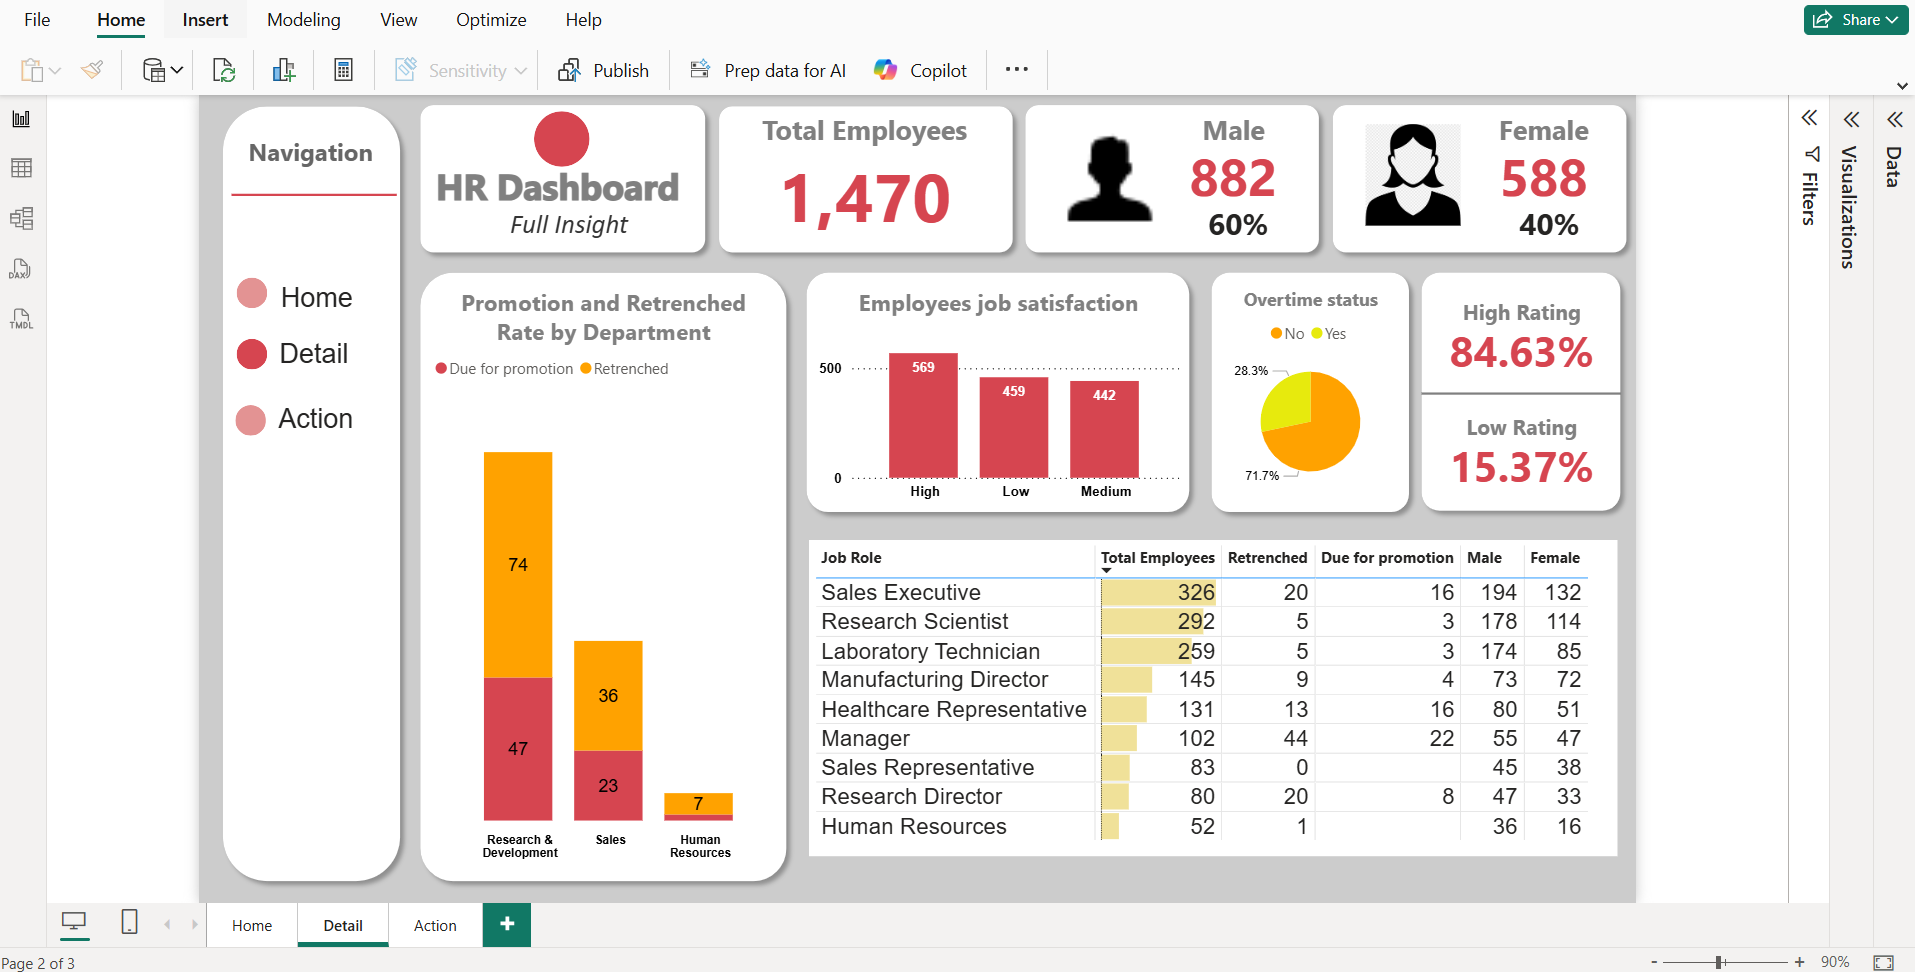

Layout of this report page (visuals, bound fields, positions):
{"tool":"powerbi","page":{"name":"Detail","canvas":[1280,720],"ordinal":1},"visuals":[{"type":"shape","box":[12.2,1.1,175.9,708],"z":0},{"type":"shape","box":[892.5,148.8,193.8,231.2],"z":1000},{"type":"shape","box":[532.5,148.8,358.8,231.2],"z":2000},{"type":"shape","box":[453.8,1.1,279.4,148.1],"z":3000},{"type":"shape","box":[188.1,0,271.6,149.2],"z":4000},{"type":"shape","box":[727.3,0,279.4,149.2],"z":5000},{"type":"shape","box":[1000.6,0,279.4,149.2],"z":6000},{"type":"shape","box":[188.1,149.2,344,560],"z":7000},{"type":"textbox","box":[205.6,54.6,236,58.4],"z":8000},{"type":"textbox","box":[261.4,83.7,144.6,57.1],"z":9000},{"type":"shape","box":[298.2,14,49.5,49.5],"z":10000},{"type":"card","title":"Total Employees","fields":{"Values":["All Measures.Total Employees"]},"box":[474.5,14,237.3,112.9],"z":11000},{"type":"card","title":"Male","fields":{"Values":["All Measures.Male"]},"box":[856.5,14,130.7,81.2],"z":12000},{"type":"card","title":"Male","fields":{"Values":["All Measures.Male %"]},"box":[889.5,95.2,72.3,41.9],"z":13000},{"type":"card","title":"Female","fields":{"Values":["All Measures.Female"]},"box":[1130.5,14,133.2,81.2],"z":14000},{"type":"card","title":"Male","fields":{"Values":["All Measures.Female %"]},"box":[1166.1,95.2,72.3,41.9],"z":15000},{"type":"image","box":[1030.3,21.6,100.2,100.2],"z":16000},{"type":"image","box":[753.7,14,112.9,112.9],"z":17000},{"type":"shape","box":[1080,148.8,195,230],"z":18000},{"type":"columnChart","title":"Promotion and Retrenched Rate by Department","fields":{"Category":["HR Analytics Data.Department"],"Y":["All Measures.Due for promotion","All Measures.Retrenched"]},"box":[205,170,311.2,518.8],"z":19000},{"type":"columnChart","title":"Employees job satisfaction","fields":{"Y":["All Measures.Total Employees"],"Category":["HR Analytics Data.Job Status"]},"box":[546.2,170,331.2,198.8],"z":20000},{"type":"pieChart","title":"Overtime status","fields":{"Y":["All Measures.Total Employees"],"Category":["HR Analytics Data.Over Time"]},"box":[910,170,161.2,190],"z":21000},{"type":"shape","box":[1088.5,249.2,177.7,33.1],"z":22000},{"type":"card","title":"High Rating","fields":{"Values":["All Measures.High Rating %"]},"box":[1096.2,180,163.1,69.2],"z":23000},{"type":"card","title":"High Rating","fields":{"Values":["All Measures.Low Rating %"]},"box":[1096.2,282.3,163.1,69.2],"z":24000},{"type":"tableEx","fields":{"Values":["HR Analytics Data.Job Role","All Measures.Total Employees","All Measures.Retrenched","All Measures.Due for promotion","All Measures.Male","All Measures.Female"]},"box":[543.8,396.2,720,281.2],"z":25000},{"type":"textbox","box":[38.8,31.2,137.5,42.5],"z":26000},{"type":"shape","box":[28.8,65,147.5,48.8],"z":27000},{"type":"shape","box":[33.8,162.5,27.5,27.5],"z":28000},{"type":"textbox","box":[67.5,162.5,101.2,43.8],"z":29000},{"type":"shape","box":[33.8,216.9,27.5,27.5],"z":30000},{"type":"textbox","box":[67,213,101.2,43.8],"z":31000},{"type":"shape","box":[32.5,276.2,27.5,27.5],"z":32000},{"type":"textbox","box":[66,271,101.2,43.8],"z":33000},{"type":"actionButton","box":[22.9,150.8,47.1,50.7],"z":34000},{"type":"actionButton","box":[24.1,267.8,47.1,50.7],"z":35000}]}

Visuals, with their boxes on the page's 1280x720 design canvas (x1, y1, x2, y2). These are canvas units, not pixel positions in the 1915x972 screenshot, which may show the page scaled, cropped or inside an application window:
shape: [left=12, top=1, right=188, bottom=709]
shape: [left=892, top=149, right=1086, bottom=380]
shape: [left=532, top=149, right=891, bottom=380]
shape: [left=454, top=1, right=733, bottom=149]
shape: [left=188, top=0, right=460, bottom=149]
shape: [left=727, top=0, right=1007, bottom=149]
shape: [left=1001, top=0, right=1280, bottom=149]
shape: [left=188, top=149, right=532, bottom=709]
textbox: [left=206, top=55, right=442, bottom=113]
textbox: [left=261, top=84, right=406, bottom=141]
shape: [left=298, top=14, right=348, bottom=64]
"Total Employees" card: [left=474, top=14, right=712, bottom=127]
"Male" card: [left=856, top=14, right=987, bottom=95]
"Male" card: [left=890, top=95, right=962, bottom=137]
"Female" card: [left=1130, top=14, right=1264, bottom=95]
"Male" card: [left=1166, top=95, right=1238, bottom=137]
image: [left=1030, top=22, right=1130, bottom=122]
image: [left=754, top=14, right=867, bottom=127]
shape: [left=1080, top=149, right=1275, bottom=379]
"Promotion and Retrenched Rate by Department" columnChart: [left=205, top=170, right=516, bottom=689]
"Employees job satisfaction" columnChart: [left=546, top=170, right=877, bottom=369]
"Overtime status" pieChart: [left=910, top=170, right=1071, bottom=360]
shape: [left=1088, top=249, right=1266, bottom=282]
"High Rating" card: [left=1096, top=180, right=1259, bottom=249]
"High Rating" card: [left=1096, top=282, right=1259, bottom=352]
tableEx - HR Analytics Data.Job Role x All Measures.Total Employees: [left=544, top=396, right=1264, bottom=677]
textbox: [left=39, top=31, right=176, bottom=74]
shape: [left=29, top=65, right=176, bottom=114]
shape: [left=34, top=162, right=61, bottom=190]
textbox: [left=68, top=162, right=169, bottom=206]
shape: [left=34, top=217, right=61, bottom=244]
textbox: [left=67, top=213, right=168, bottom=257]
shape: [left=32, top=276, right=60, bottom=304]
textbox: [left=66, top=271, right=167, bottom=315]
actionButton: [left=23, top=151, right=70, bottom=202]
actionButton: [left=24, top=268, right=71, bottom=318]
